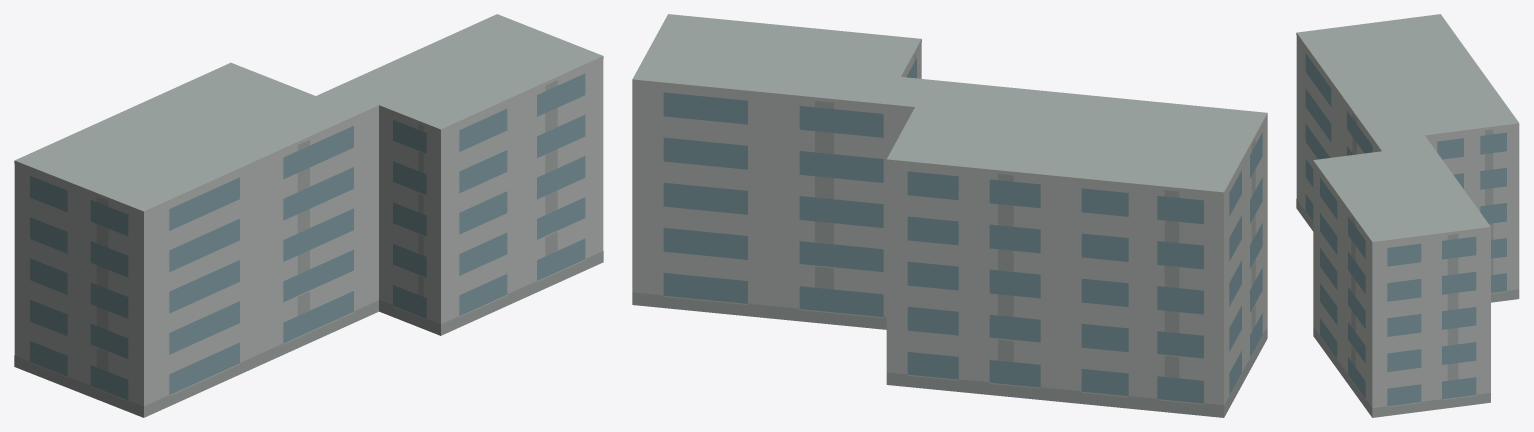
The model's file is residential-d8bbb930-9de7-401f-9485-1db96cd97680.glb.
3 views of the same model, side by side, from view 1: azimuth 30°, elevation 25°; view 2: azimuth 150°, elevation 25°; view 3: azimuth 270°, elevation 25° (orthographic). The views are drawn at different scales.
Visible parts, largest first — view 1: residential-d8bbb930-9de7-401f-9485-1db96cd97680.tmp; view 2: residential-d8bbb930-9de7-401f-9485-1db96cd97680.tmp; view 3: residential-d8bbb930-9de7-401f-9485-1db96cd97680.tmp.
Part boxes in pixels (x1=…): residential-d8bbb930-9de7-401f-9485-1db96cd97680.tmp: x1=14, y1=14, x2=603, y2=417; residential-d8bbb930-9de7-401f-9485-1db96cd97680.tmp: x1=632, y1=14, x2=1267, y2=417; residential-d8bbb930-9de7-401f-9485-1db96cd97680.tmp: x1=1296, y1=14, x2=1519, y2=417.
Size of the model in its own units: 42.44 by 15.25 by 17.53.
